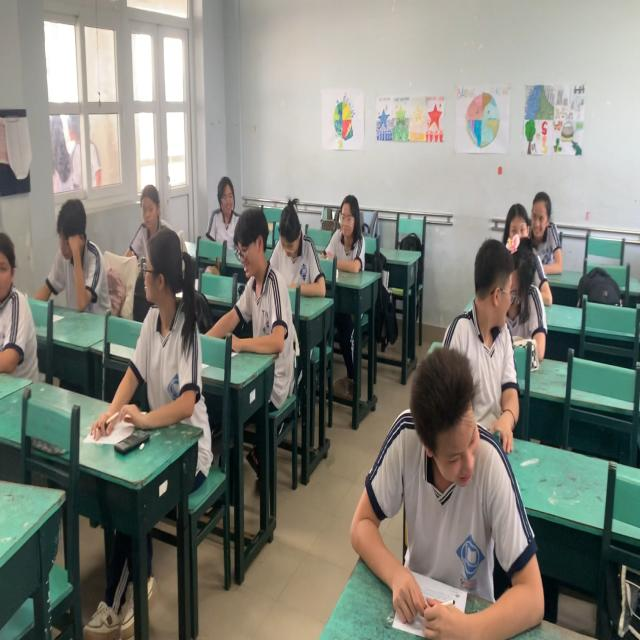cheating: (464, 240, 525, 434), (138, 226, 196, 406)
not_cheating: (361, 355, 523, 623), (225, 212, 288, 351), (52, 195, 105, 305), (272, 198, 328, 298), (322, 188, 366, 274), (524, 188, 566, 278), (130, 171, 173, 229), (210, 174, 244, 240)
